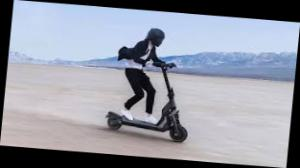helmet: (104, 25, 199, 144)
